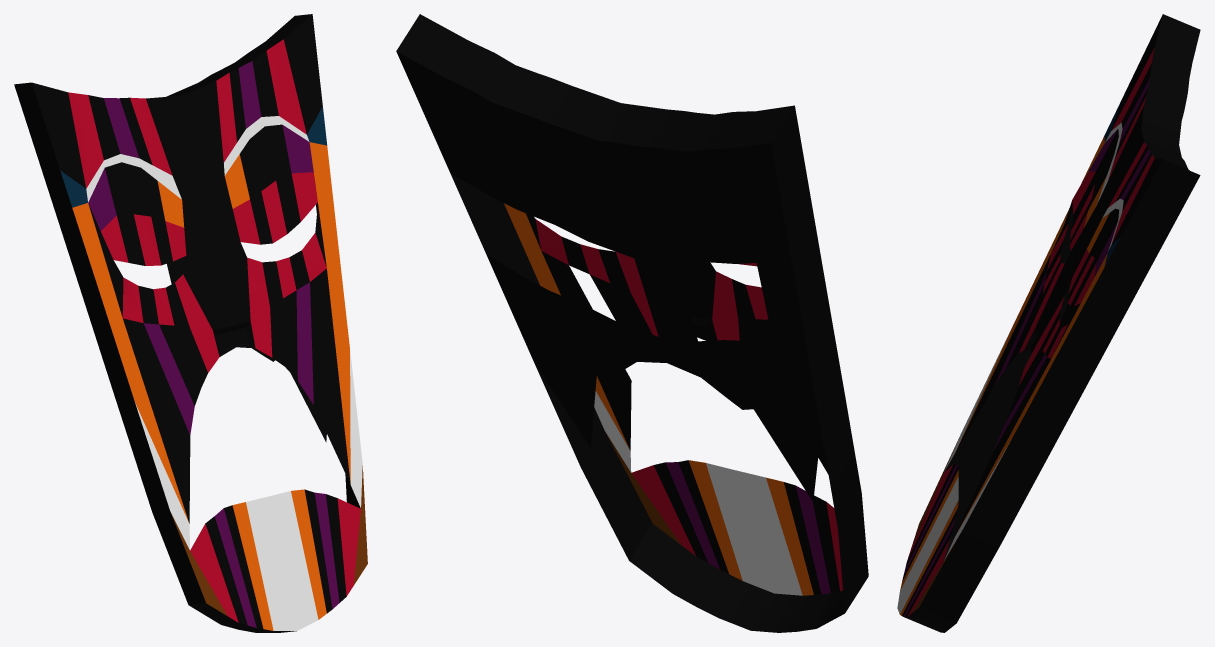
File: Cursed_Mask.fbx
3 views of the same model, side by side, from view 1: azimuth 30°, elevation 25°; view 2: azimuth 150°, elevation 25°; view 3: azimuth 270°, elevation 25° (orthographic). The views are drawn at different scales.
Visible parts, largest first — view 1: Mask; view 2: Mask; view 3: Mask.
Part boxes in pixels (x1=…): Mask: x1=14, y1=14, x2=367, y2=632; Mask: x1=396, y1=14, x2=868, y2=632; Mask: x1=897, y1=14, x2=1200, y2=632.
Bounding box in the file's own units: 2.85 × 4.91 × 2.51.
